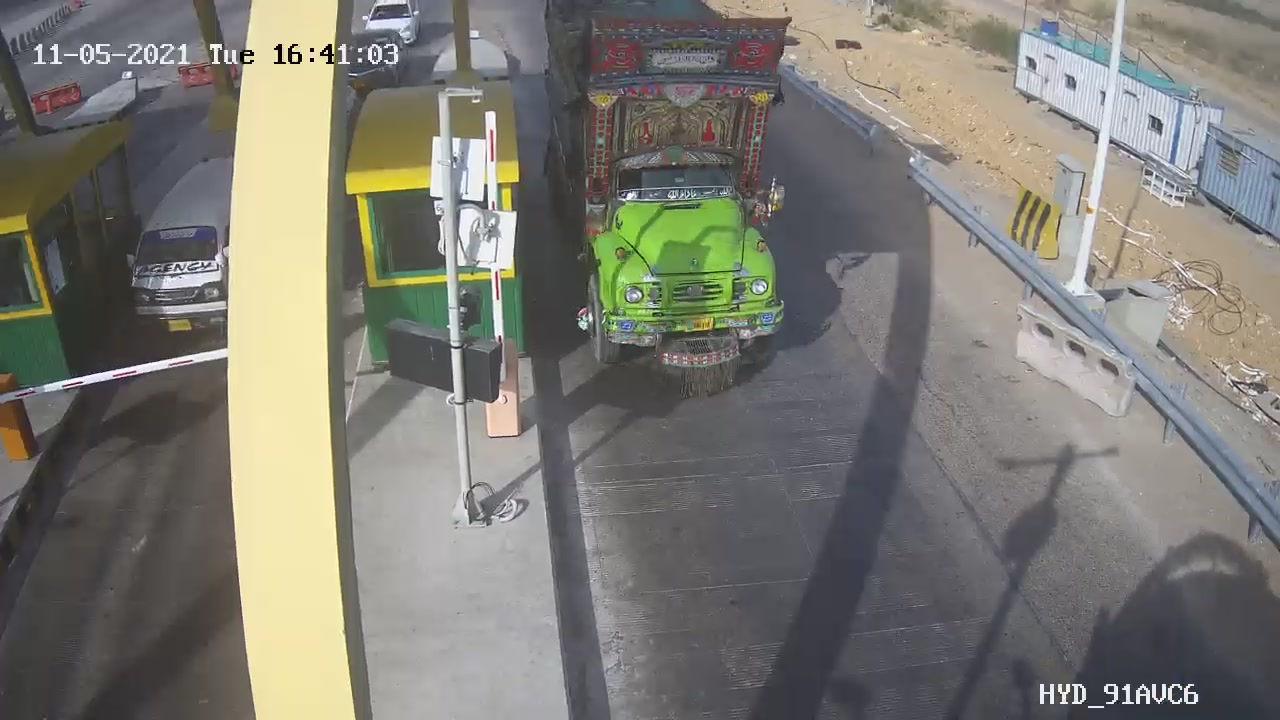F5: (534, 1, 834, 409)
